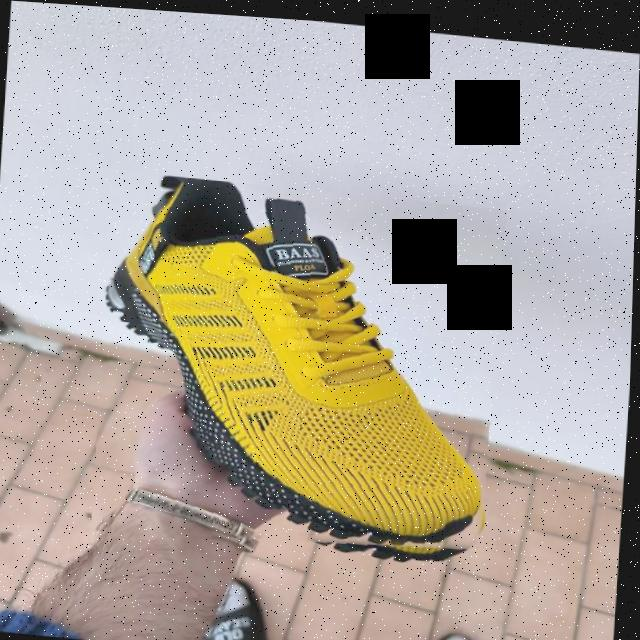shoe: (93, 167, 508, 564)
